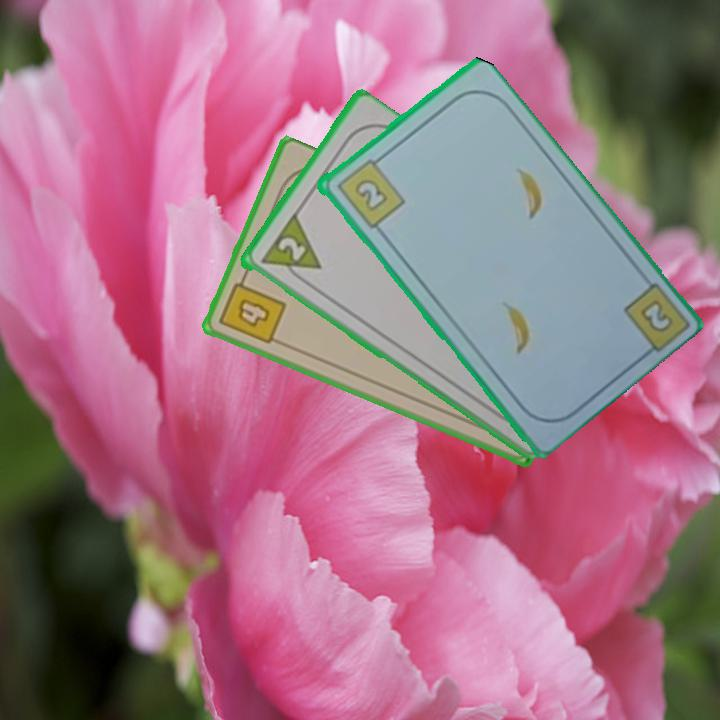2b: (332, 152, 407, 231), (636, 295, 676, 336)
2p: (256, 212, 324, 289)
4b: (215, 270, 289, 348)
